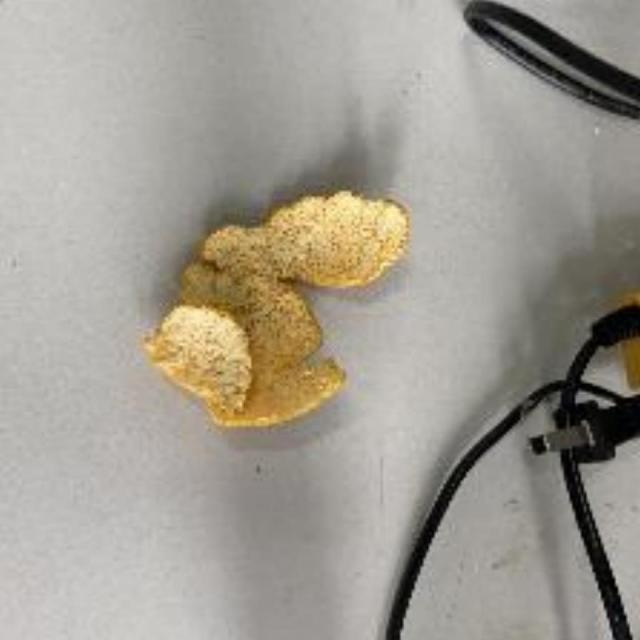orange-peel: (142, 188, 408, 429)
